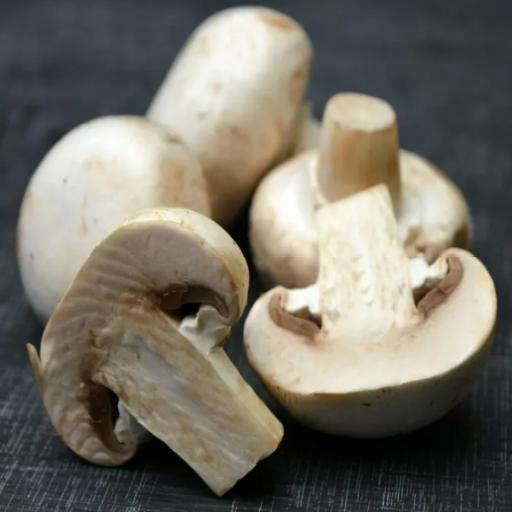Button Mushroom: (217, 168, 512, 486), (2, 191, 293, 512), (112, 0, 368, 227), (224, 72, 480, 295), (0, 84, 227, 326)
